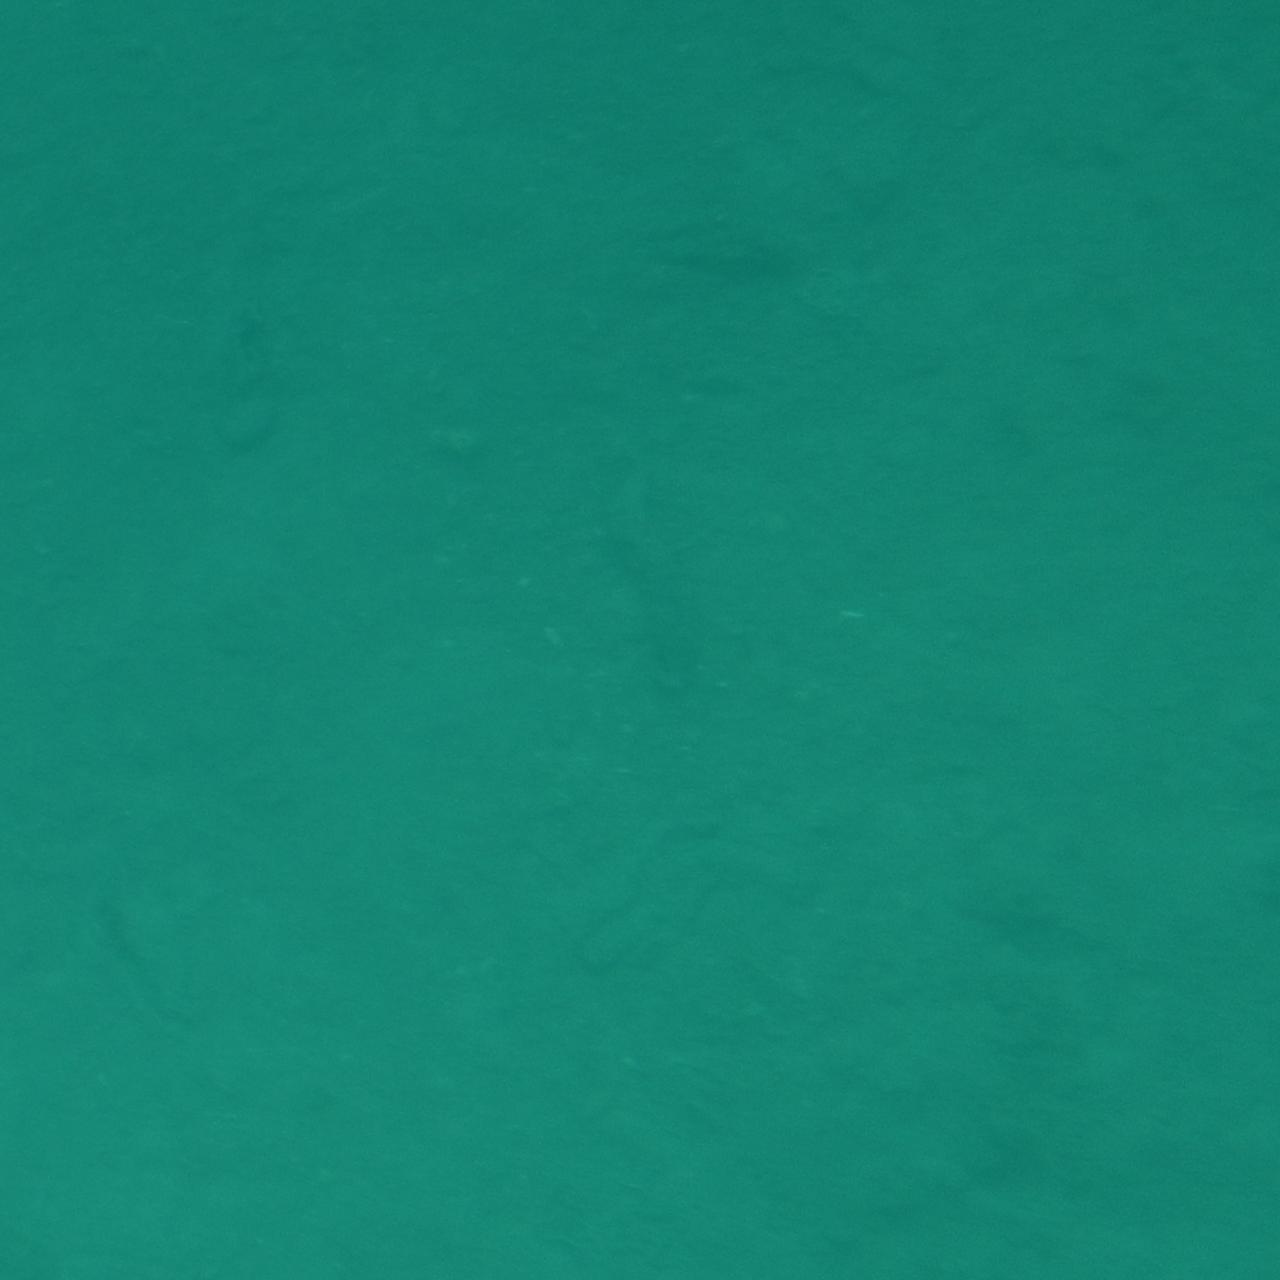Holothuria tubulosa: (558, 504, 722, 776)
